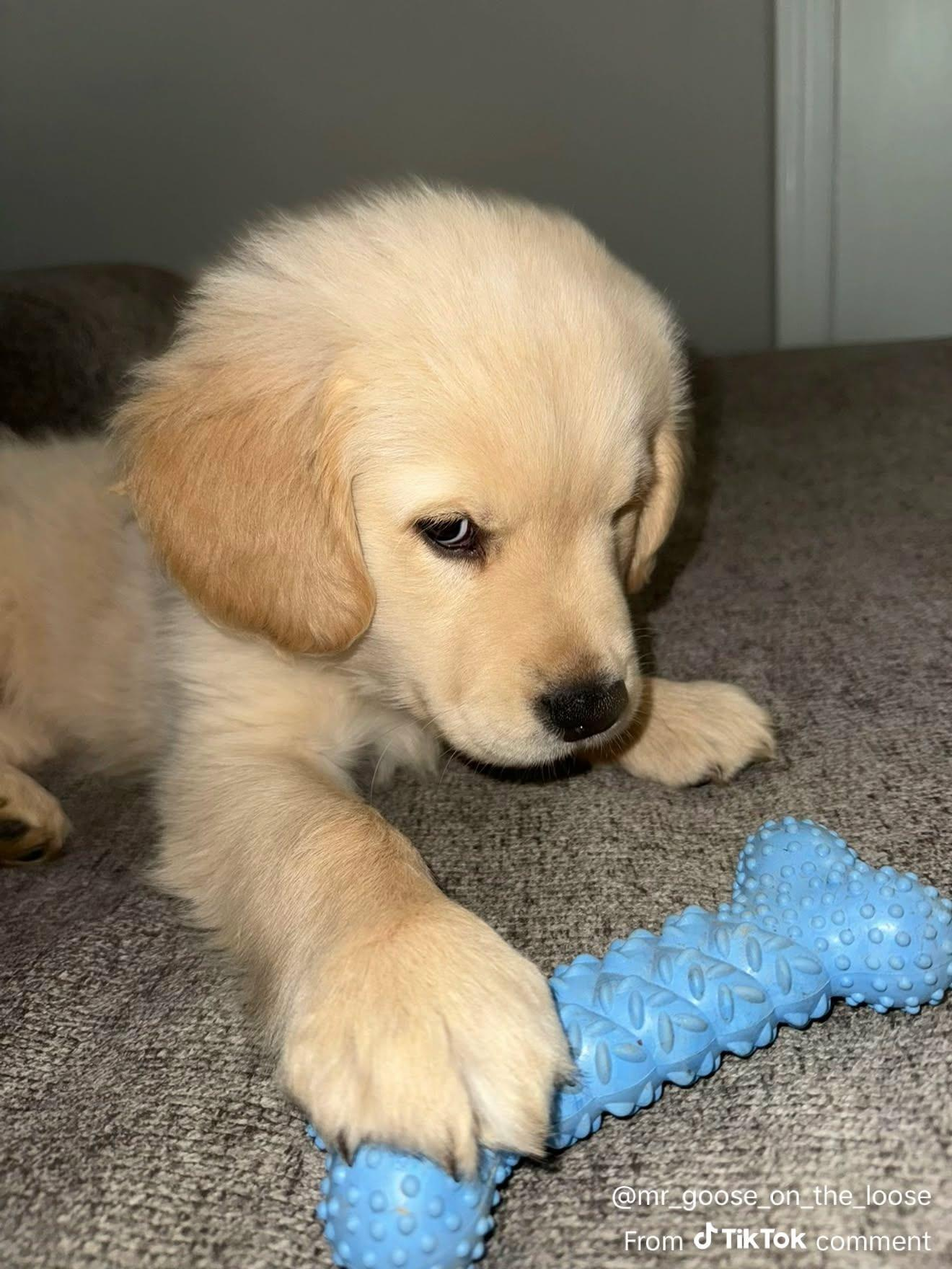puppy-dog: (0, 180, 780, 1180)
